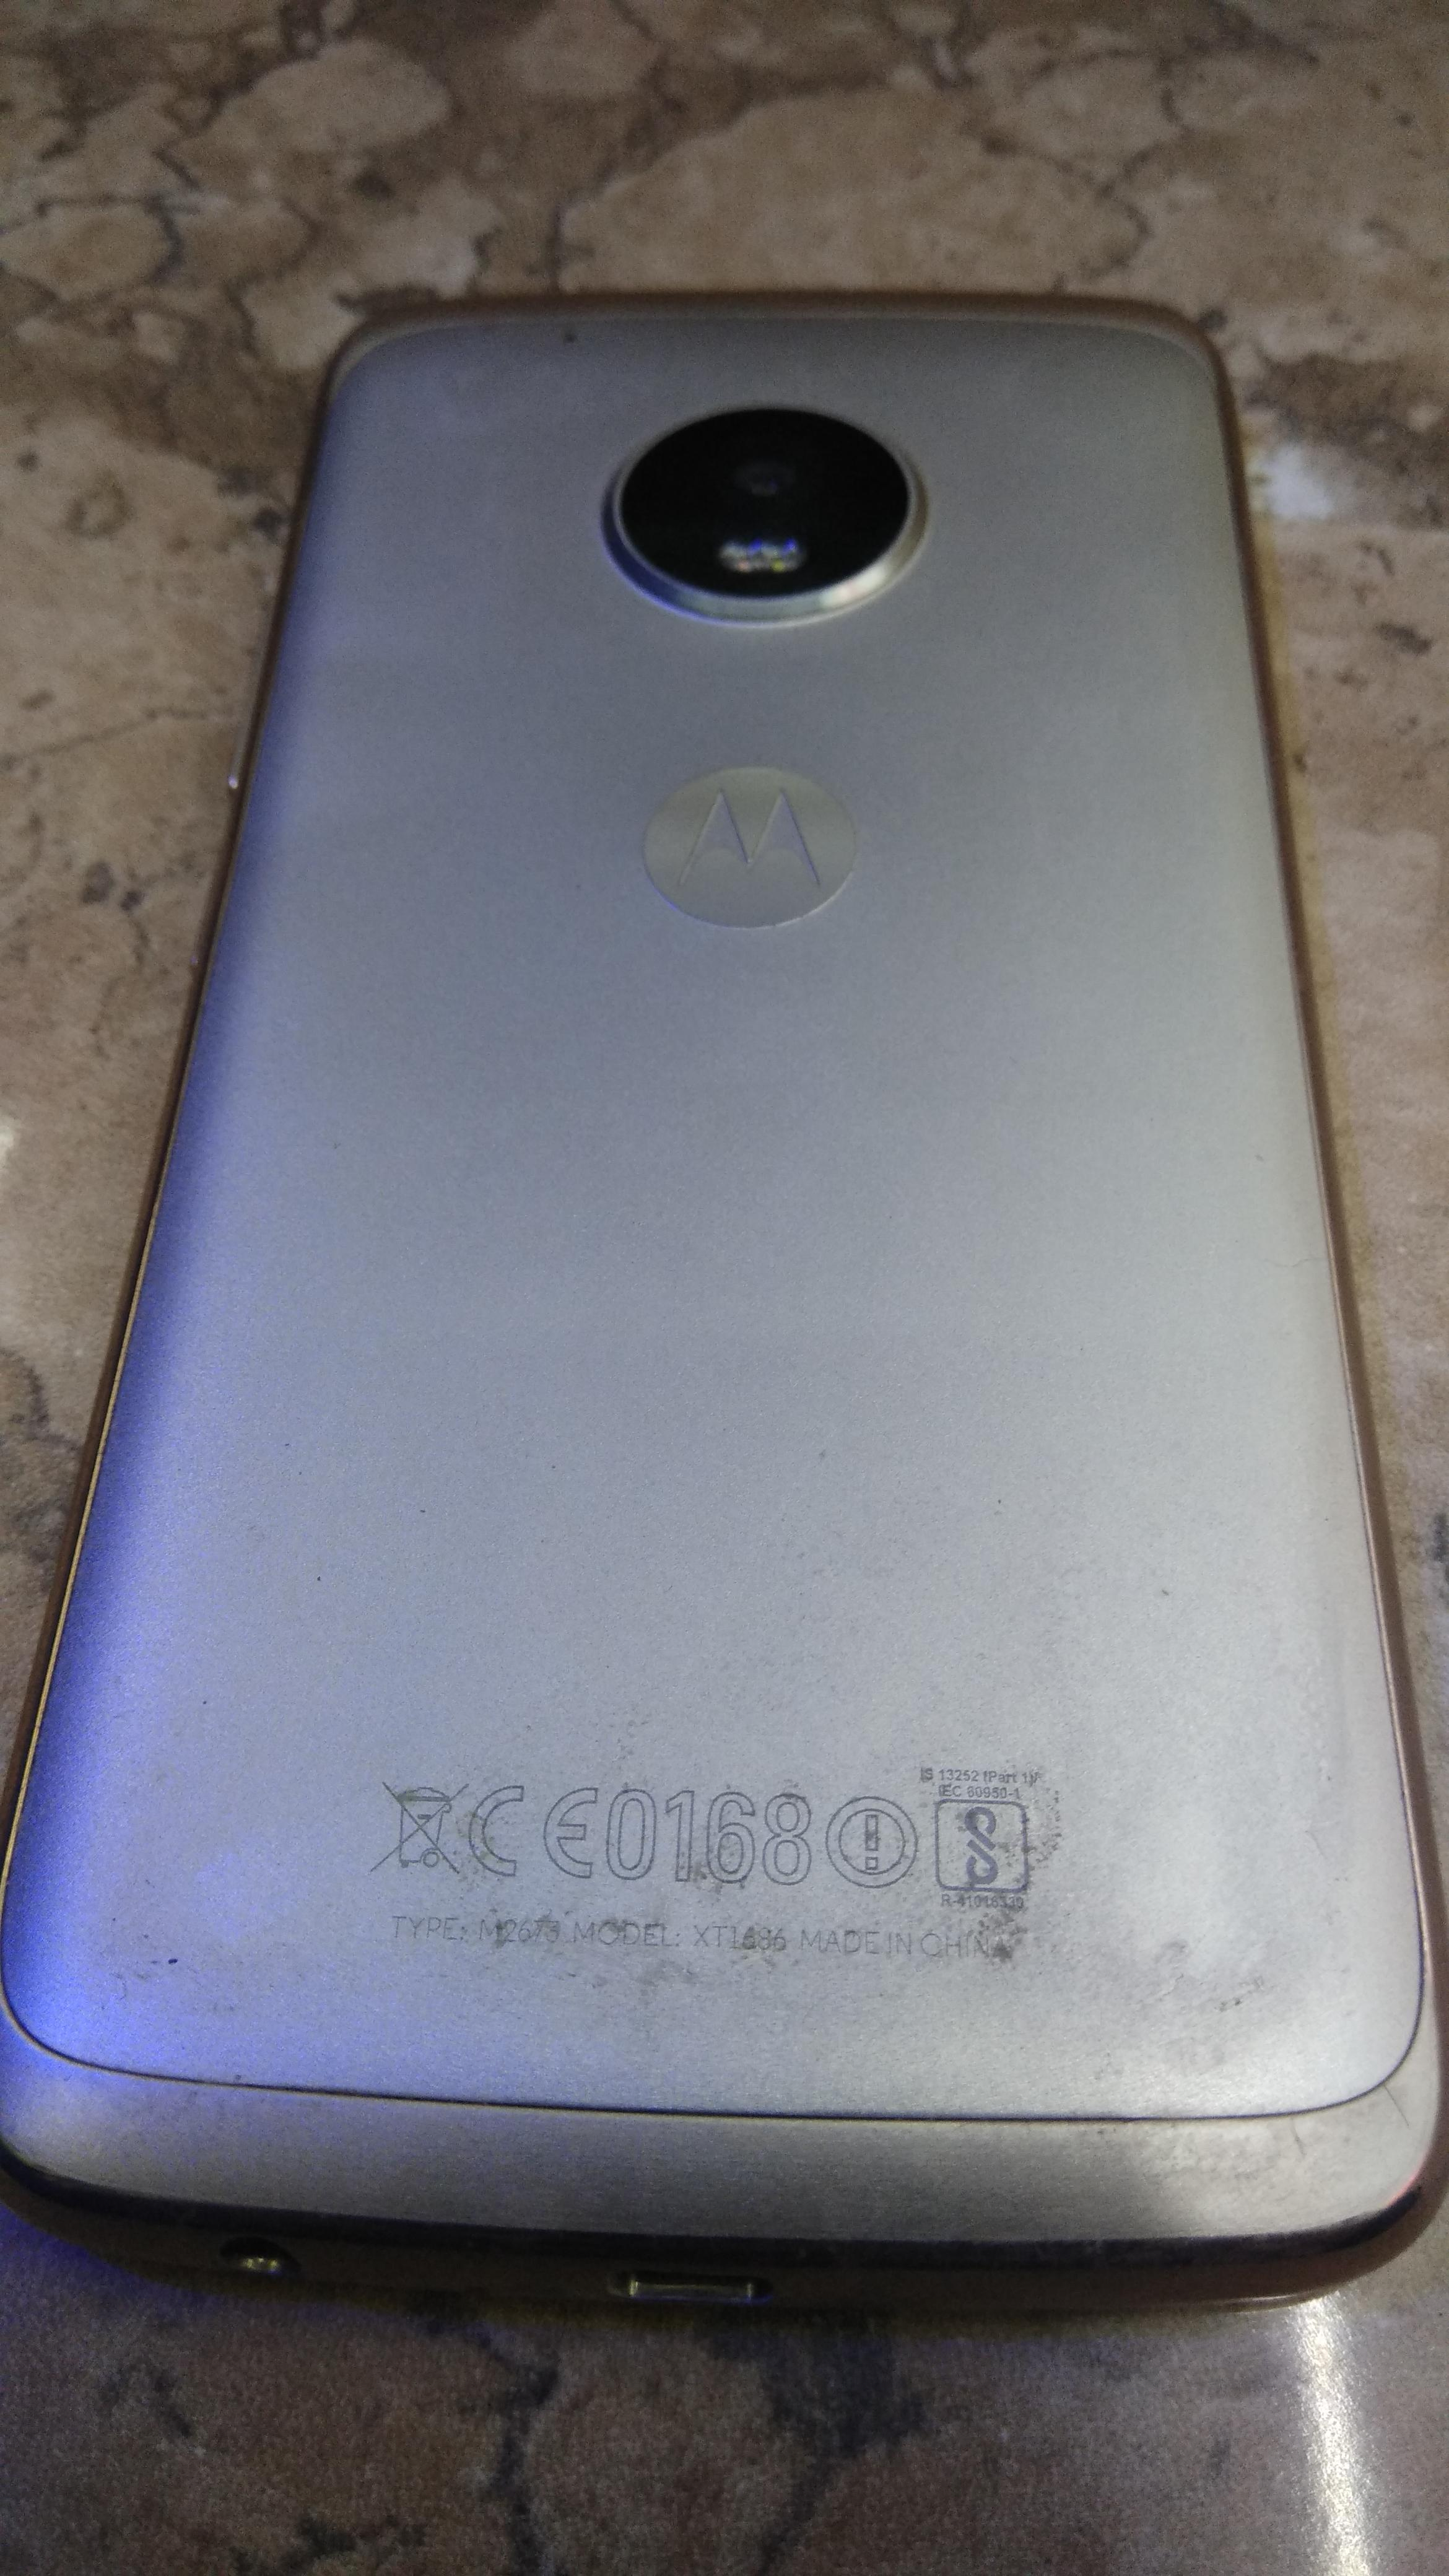Phone: (0, 244, 1449, 2365)
